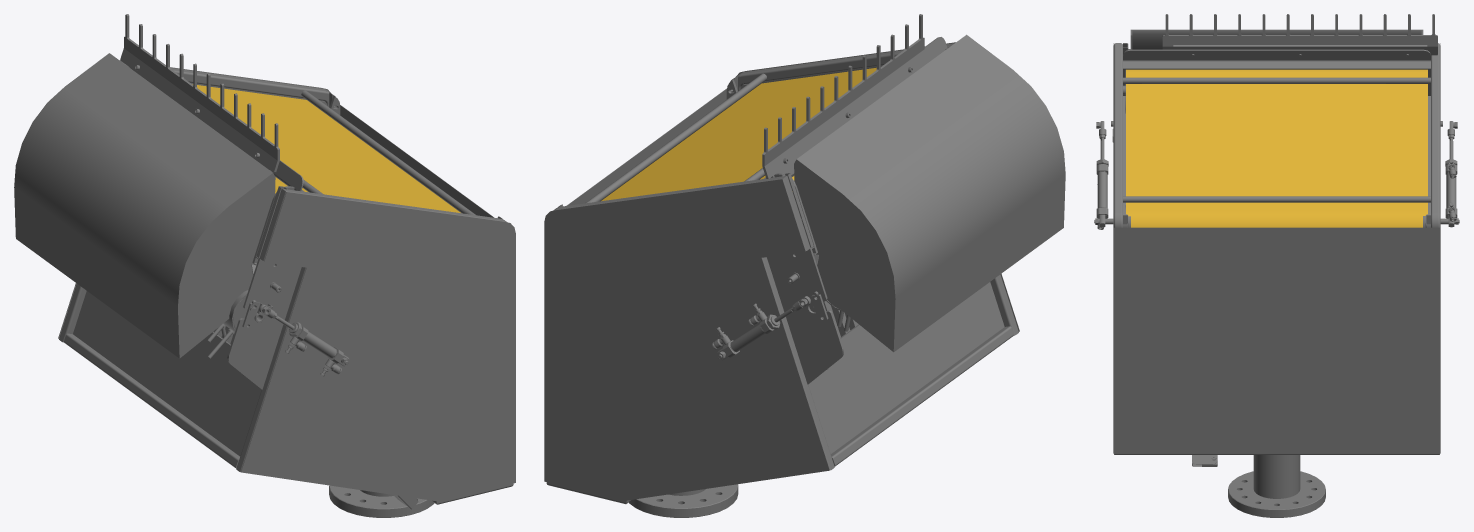
File: tool-640.glb
The picture shows the model from 3 angles, left to right: view 1: azimuth 30°, elevation 25°; view 2: azimuth 150°, elevation 25°; view 3: azimuth 270°, elevation 25°; orthographic projection. The views are drawn at different scales.
Visible parts, largest first — view 1: 右侧封板_默认<按加工>, FJRB001020 活动打散护罩三, 布料头框架-22_默认<按加工>, 皮带U17-1A-W 22, FJRB001020 刚性耙子_默认<按加工>, FJLA00091006 ABB机械臂转接法兰_默认<按加工>, 后封板_默认<按加工>, 复件 MF-20x55-CA-SDB _c^不锈钢迷你气缸 MF20x55SCA, FJLA001393 伺服电动打散滚筒_默认<按加工>; view 2: 右侧封板_默认<按加工>, FJRB001020 活动打散护罩三, 布料头框架-22_默认<按加工>, 皮带U17-1A-W 22, FJRB001020 刚性耙子_默认<按加工>, FJLA00091006 ABB机械臂转接法兰_默认<按加工>, 后封板_默认<按加工>, 复件 MF-20x55-CA-SDB _c^不锈钢迷你气缸 MF20x55SCA; view 3: 后封板_默认<按加工>, 皮带U17-1A-W 22, 布料头框架-22_默认<按加工>, FJLA00091006 ABB机械臂转接法兰_默认<按加工>, FJRB001020 刚性耙子_默认<按加工>, FJRB001020 活动打散护罩三, FJRB001020 滚筒皮带前刮板_默认<按加工>, 复件 MF-20x55-CA-SDB _c^不锈钢迷你气缸 MF20x55SCA (×2).
Part boxes in pixels (<box>): 右侧封板_默认<按加工>: <box>241,192,515,501</box>; FJRB001020 活动打散护罩三: <box>14,53,275,358</box>; 布料头框架-22_默认<按加工>: <box>59,61,513,504</box>; 皮带U17-1A-W 22: <box>192,84,460,212</box>; FJRB001020 刚性耙子_默认<按加工>: <box>120,14,279,172</box>; FJLA00091006 ABB机械臂转接法兰_默认<按加工>: <box>329,485,434,517</box>; 后封板_默认<按加工>: <box>340,105,493,217</box>; 复件 MF-20x55-CA-SDB _c^不锈钢迷你气缸 MF20x55SCA: <box>289,323,348,366</box>; FJLA001393 伺服电动打散滚筒_默认<按加工>: <box>207,290,248,358</box>; 右侧封板_默认<按加工>: <box>544,179,829,500</box>; FJRB001020 活动打散护罩三: <box>794,34,1065,352</box>; 布料头框架-22_默认<按加工>: <box>546,37,1018,504</box>; 皮带U17-1A-W 22: <box>601,67,876,201</box>; FJRB001020 刚性耙子_默认<按加工>: <box>762,14,928,178</box>; FJLA00091006 ABB机械臂转接法兰_默认<按加工>: <box>629,484,738,517</box>; 后封板_默认<按加工>: <box>566,88,726,205</box>; 复件 MF-20x55-CA-SDB _c^不锈钢迷你气缸 MF20x55SCA: <box>717,316,779,360</box>; 后封板_默认<按加工>: <box>1113,227,1440,451</box>; 皮带U17-1A-W 22: <box>1126,69,1427,227</box>; 布料头框架-22_默认<按加工>: <box>1094,43,1459,454</box>; FJLA00091006 ABB机械臂转接法兰_默认<按加工>: <box>1228,455,1325,517</box>; FJRB001020 刚性耙子_默认<按加工>: <box>1162,14,1437,55</box>; FJRB001020 活动打散护罩三: <box>1130,29,1423,49</box>; FJRB001020 滚筒皮带前刮板_默认<按加工>: <box>1173,45,1427,50</box>; 复件 MF-20x55-CA-SDB _c^不锈钢迷你气缸 MF20x55SCA (×2): <box>1096,159,1457,227</box>.
Size of the model in its own units: 0.7418 by 0.9688 by 0.784.
